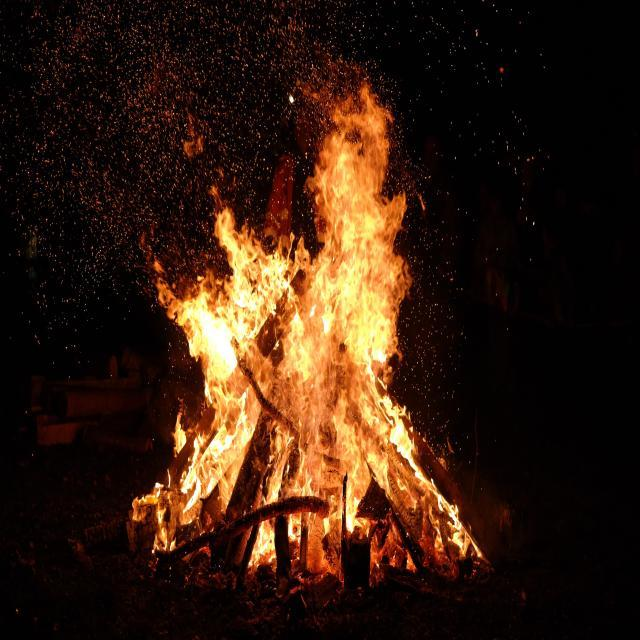Fire: (117, 45, 496, 600)
